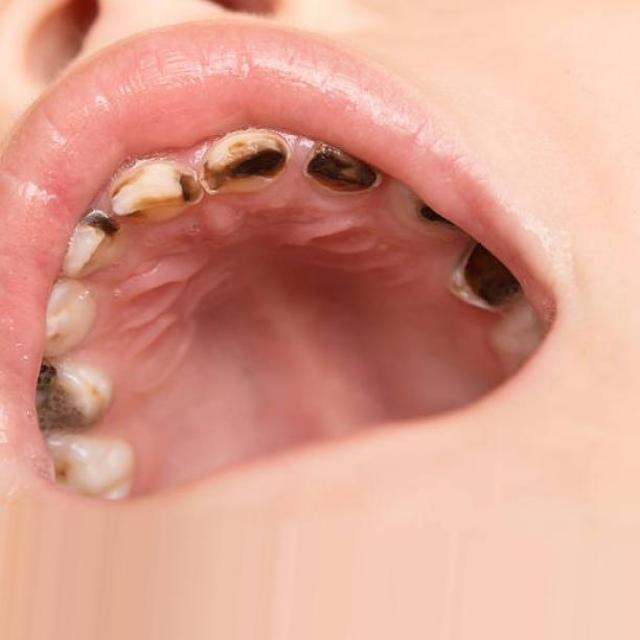caries: (29, 348, 116, 442), (196, 128, 295, 203), (455, 234, 531, 328), (295, 138, 395, 202), (105, 164, 207, 226), (76, 202, 136, 256), (398, 196, 475, 238)
